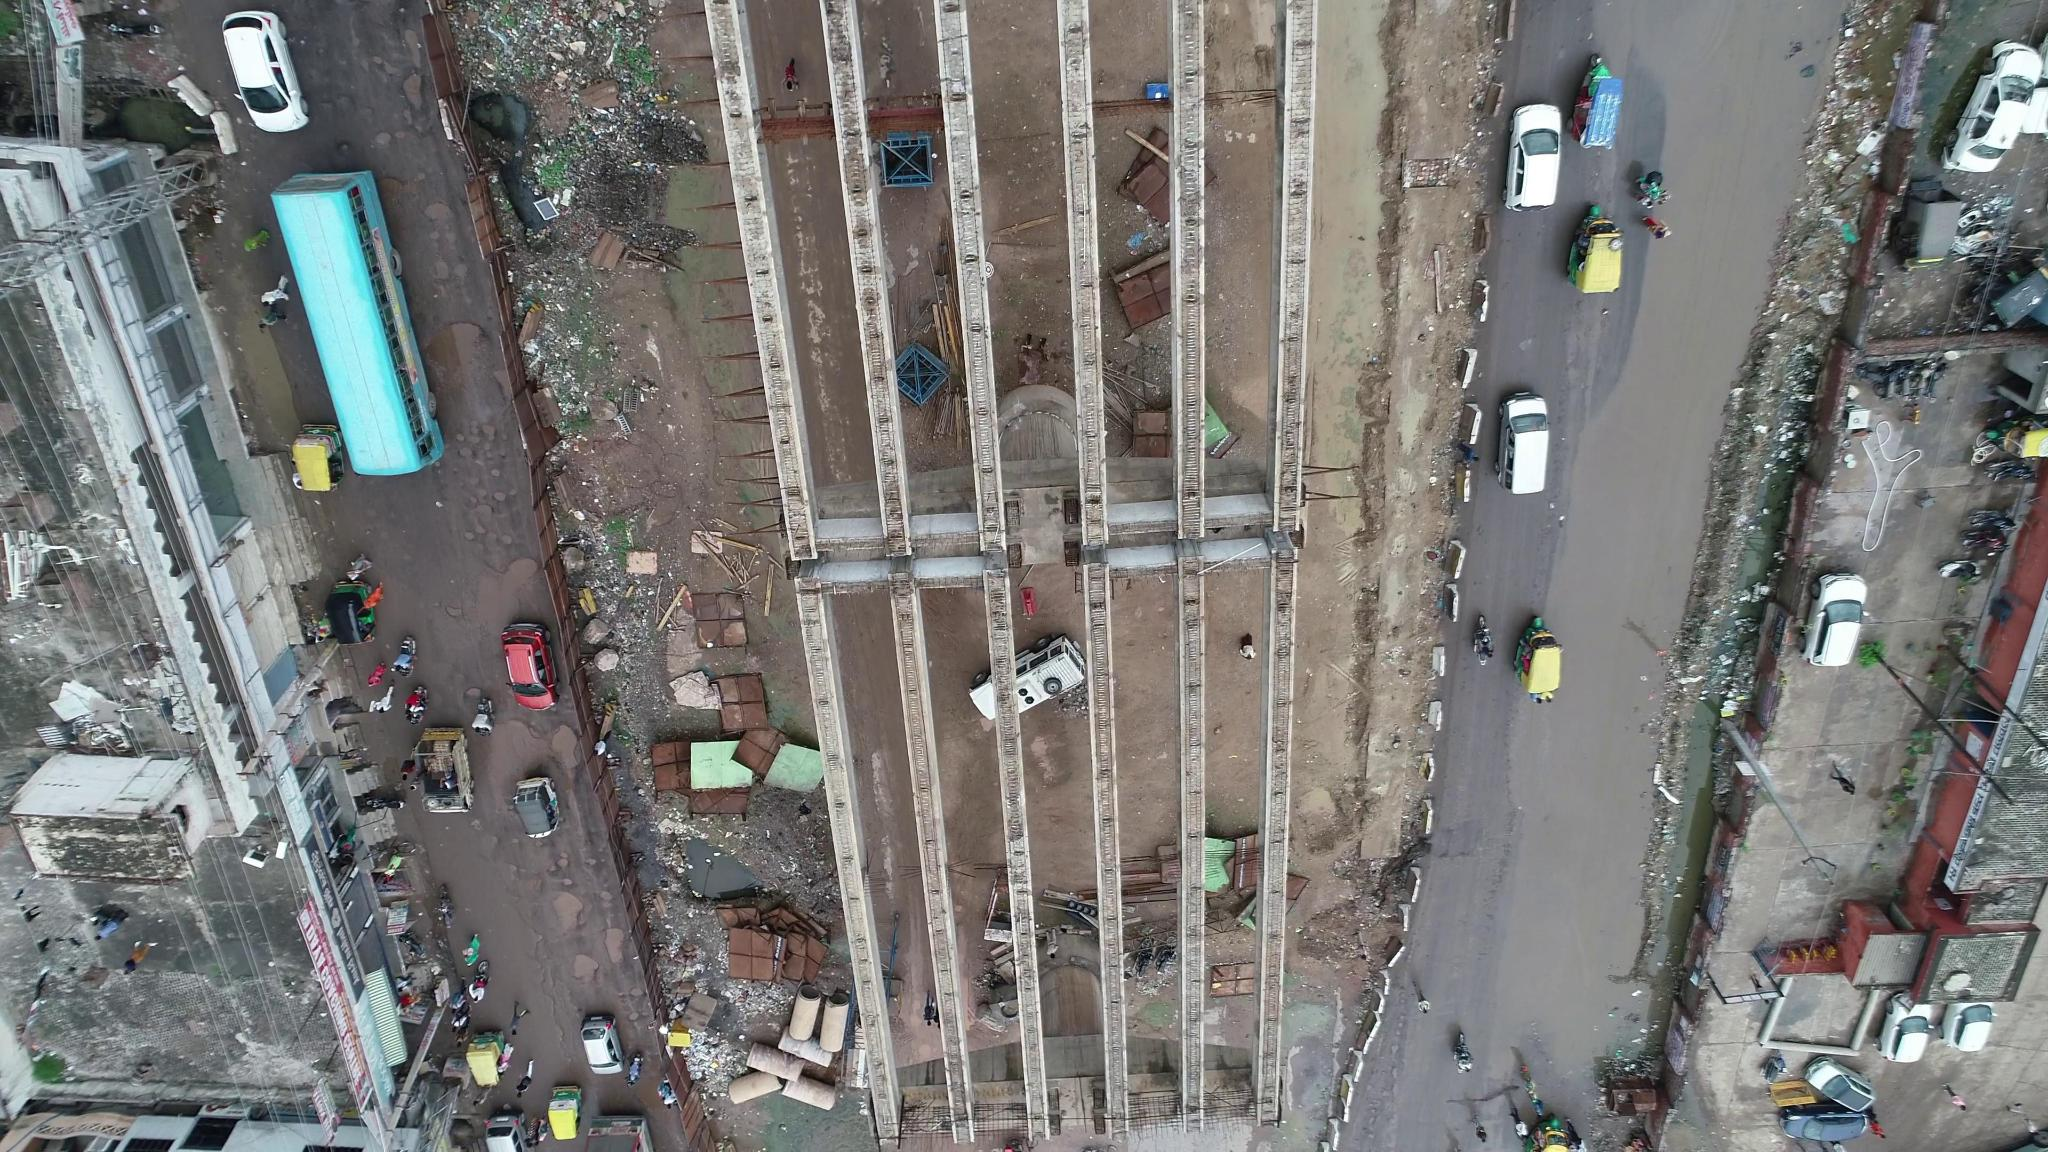Potholes: (499, 855, 615, 994), (439, 428, 520, 574), (409, 203, 477, 300), (1362, 1011, 1409, 1137)
Waterlogging: (1505, 722, 1660, 1030), (1556, 373, 1726, 626)
